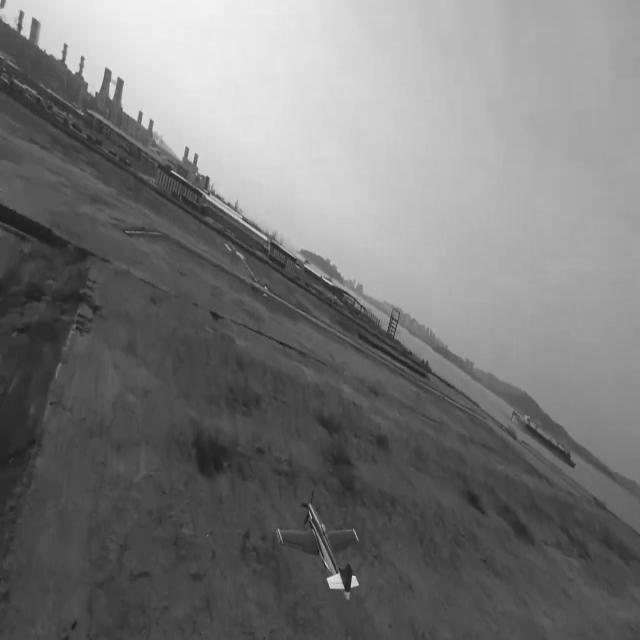iha: (296, 522, 347, 578)
